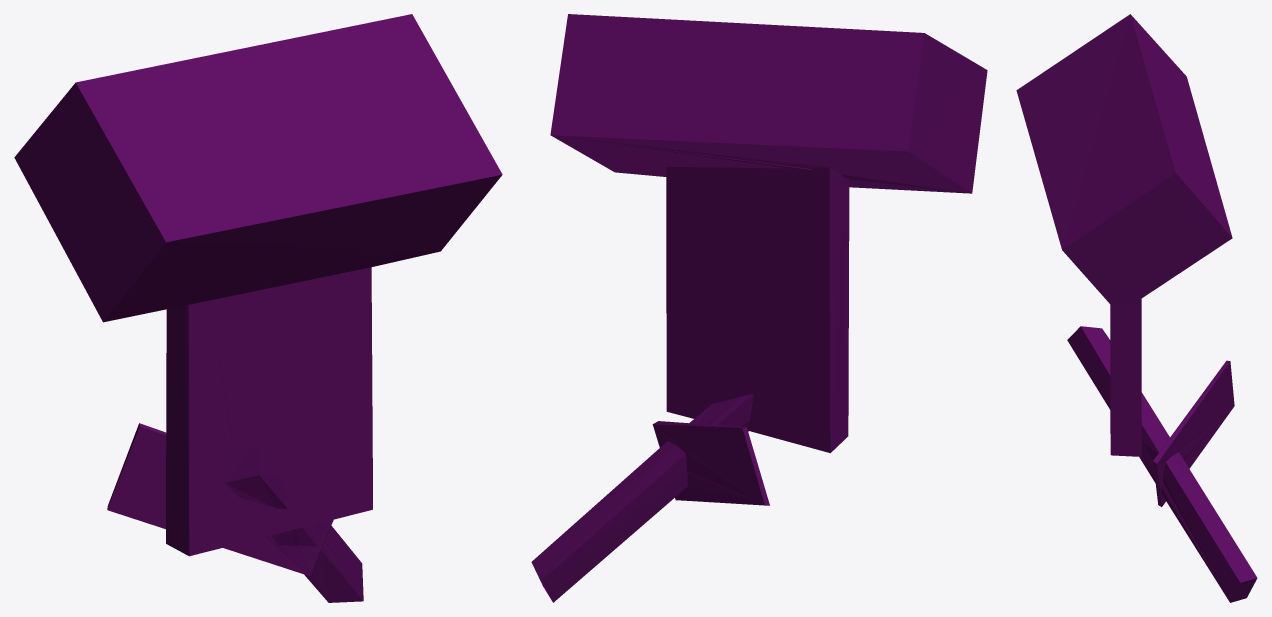
The picture shows the model from 3 angles, left to right: view 1: azimuth 30°, elevation 25°; view 2: azimuth 150°, elevation 25°; view 3: azimuth 270°, elevation 25°; orthographic projection. The views are drawn at different scales.
Visible parts, largest first — view 1: 606_Cube.2439; view 2: 606_Cube.2439; view 3: 606_Cube.2439.
Part boxes in pixels (x1,y1,x2,y2): 606_Cube.2439: [14, 14, 502, 602]; 606_Cube.2439: [531, 14, 987, 602]; 606_Cube.2439: [1016, 14, 1257, 602].
Size of the model in its own units: 12.76 by 20.19 by 9.42.
